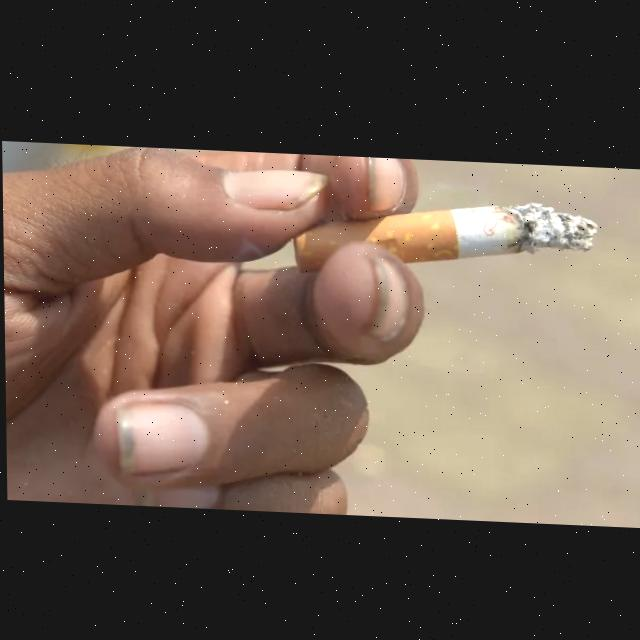cigarette: (292, 188, 599, 281)
